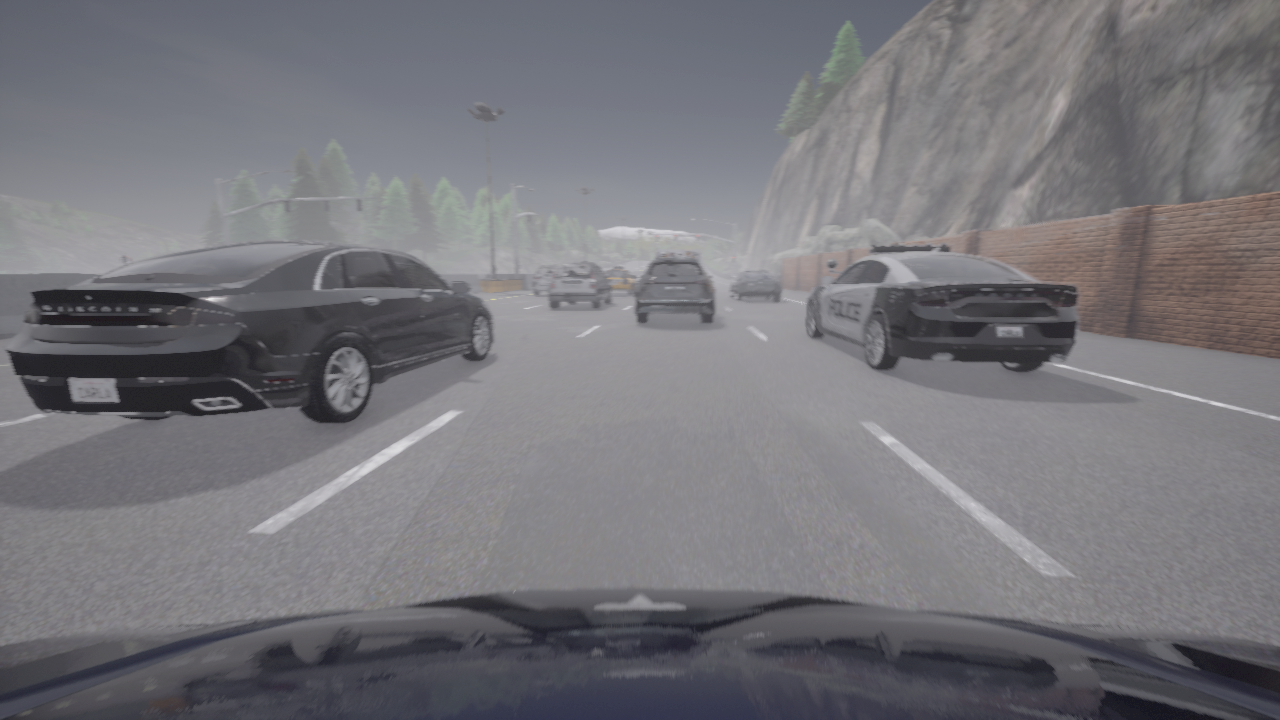cyclist: (0, 588, 1279, 719), (5, 239, 493, 423), (806, 244, 1078, 372), (635, 256, 714, 323), (548, 262, 611, 308), (729, 270, 781, 301), (604, 267, 636, 295), (533, 265, 559, 294), (658, 250, 700, 261)
